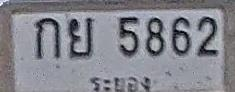2: (197, 16, 217, 56)
5: (118, 16, 138, 56)
6: (171, 16, 191, 55)
8: (146, 16, 164, 56)
A01: (34, 16, 60, 58)
A34: (68, 17, 93, 58)
RYG: (87, 71, 153, 92)
